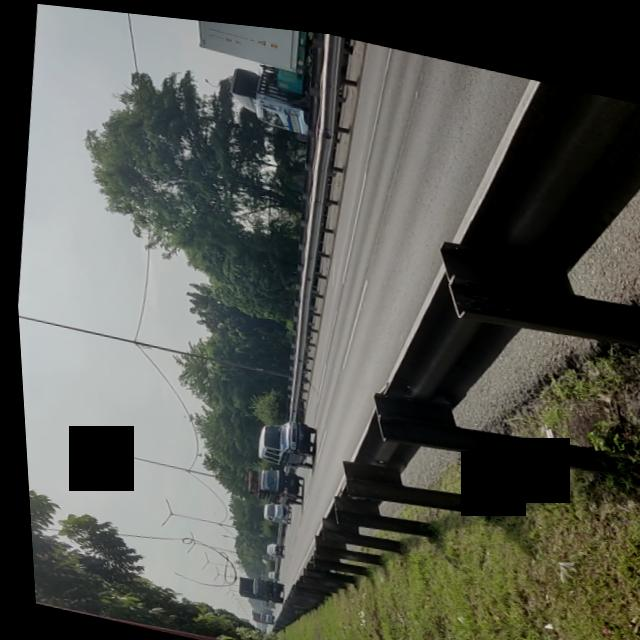Golongan I: (247, 405, 318, 468)
